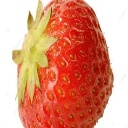strawberry: (12, 1, 116, 128)
